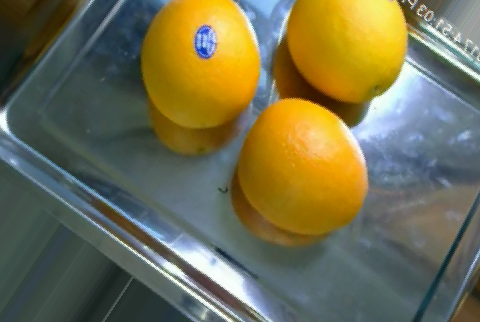Orange: (238, 95, 368, 234), (141, 0, 262, 129), (285, 1, 409, 103)
